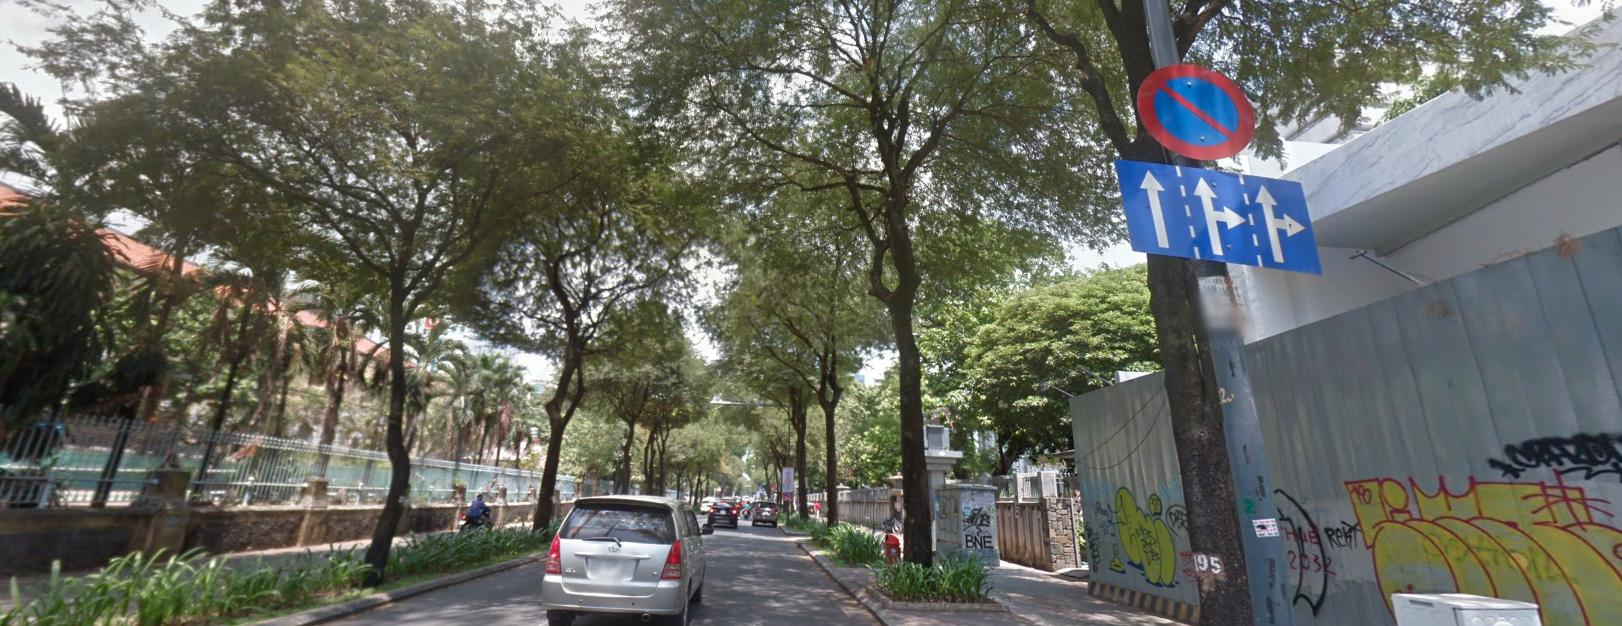Cam dung va do: (1130, 55, 1268, 166)
